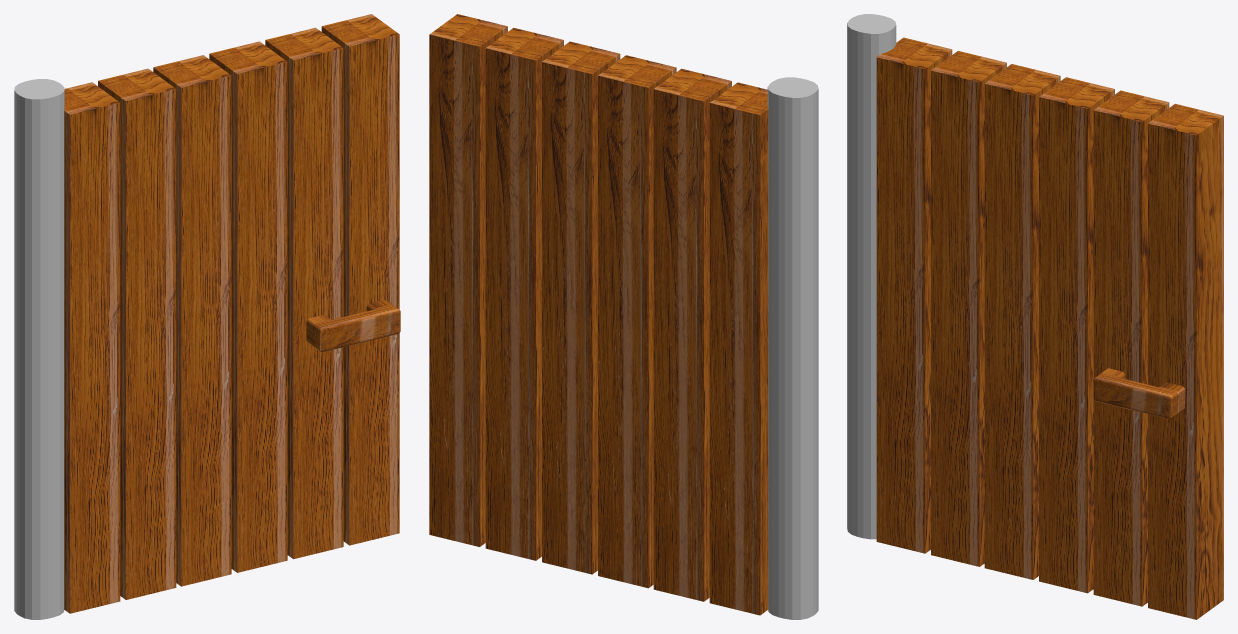
The model's file is gate.fbx.
3 renders of one model, left to right at view 1: azimuth 30°, elevation 25°; view 2: azimuth 150°, elevation 25°; view 3: azimuth 330°, elevation 25°, orthographic. The views are drawn at different scales.
Visible parts, largest first — view 1: gate; view 2: gate; view 3: gate.
Part boxes in pixels (x1=…): gate: x1=14, y1=14, x2=400, y2=619; gate: x1=429, y1=14, x2=818, y2=619; gate: x1=847, y1=14, x2=1223, y2=619.
Bounding box in the file's own units: 90.24 × 122 × 17.76.
